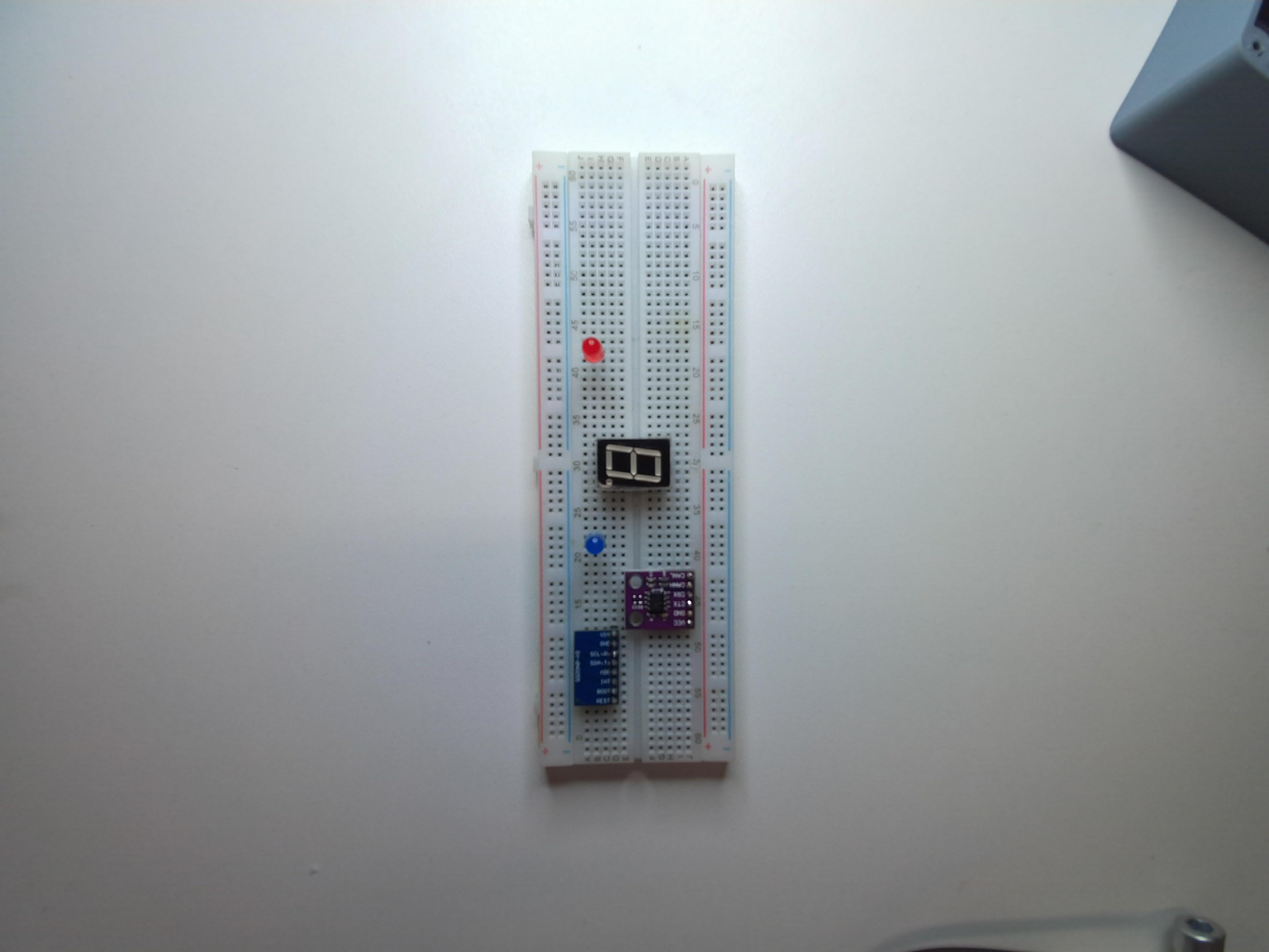base: (518, 148, 745, 796)
blue-board: (572, 623, 620, 715)
blue-led: (586, 536, 604, 555)
digit-board: (595, 436, 674, 497)
purple-board: (622, 570, 697, 635)
red-led: (578, 332, 609, 369)
